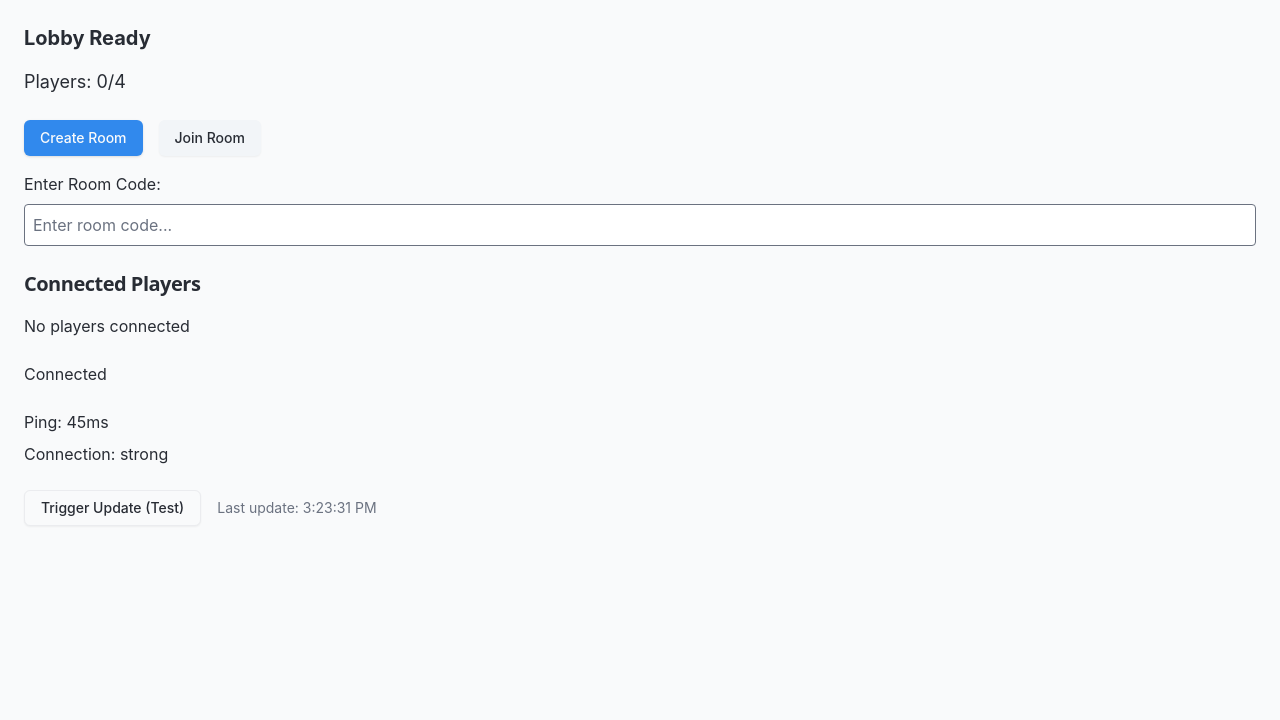
Test: Multiplayer Integration Tests (TDD CYCLE 4 GREEN Phase) › Phase GREEN - Tests qui doivent maintenant passer › should show live scores and rankings
// Créer une room pour avoir des scores
Click the button with test id "create-room-button": (83, 138) [24,120,142,156]
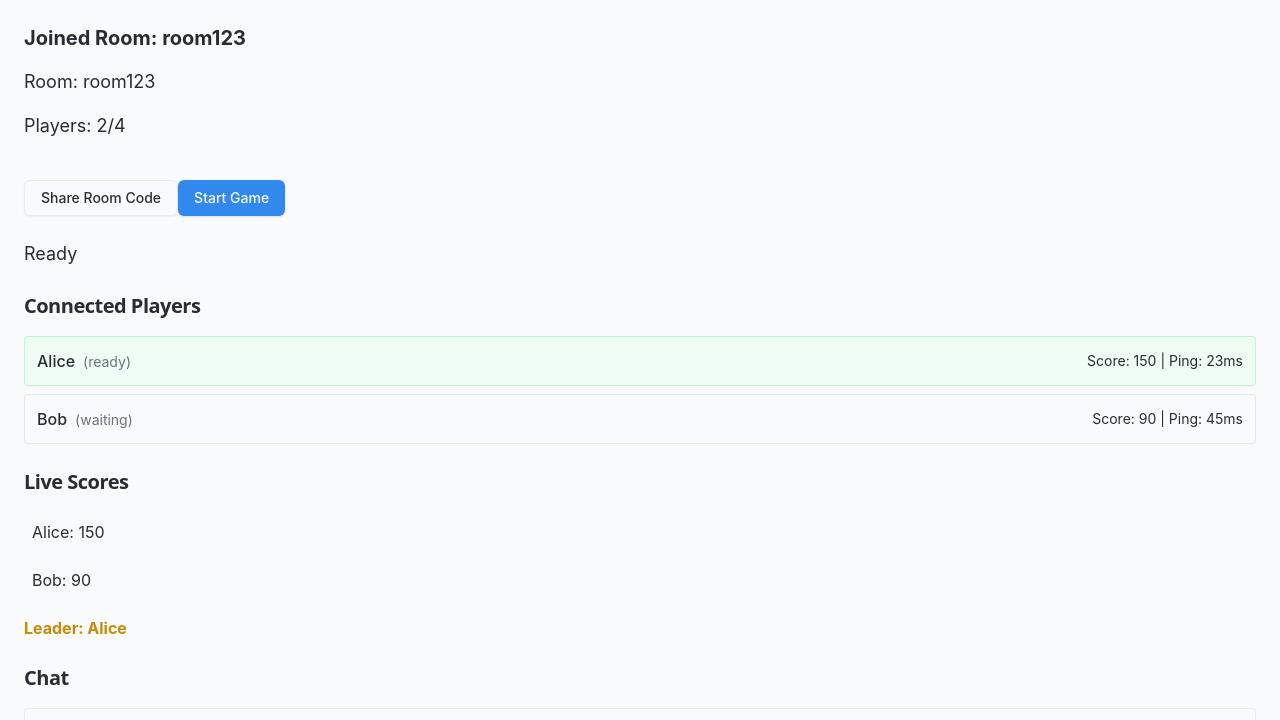
Expected: the element with test id "live-scoreboard" is shown, [24,468,1256,640]
Expected: the element with test id "player1-score" reads "Alice: 150", [24,512,1256,552]
Expected: the element with test id "player2-score" reads "Bob: 90", [24,560,1256,600]
